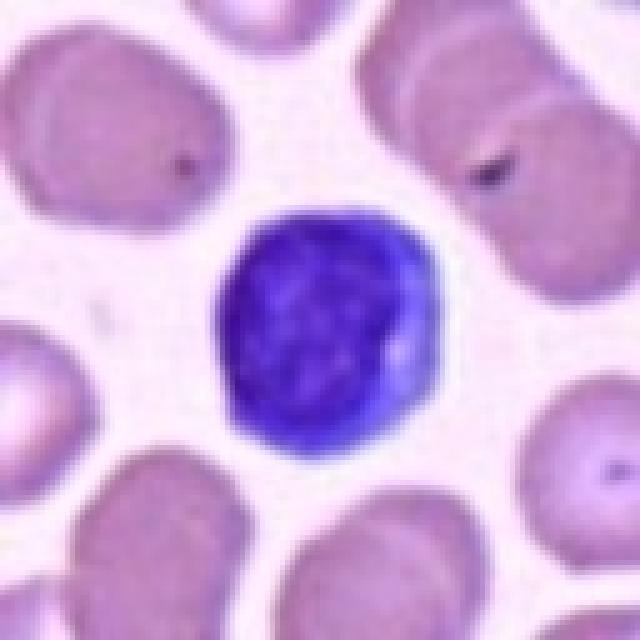lympho: (207, 205, 454, 468)
